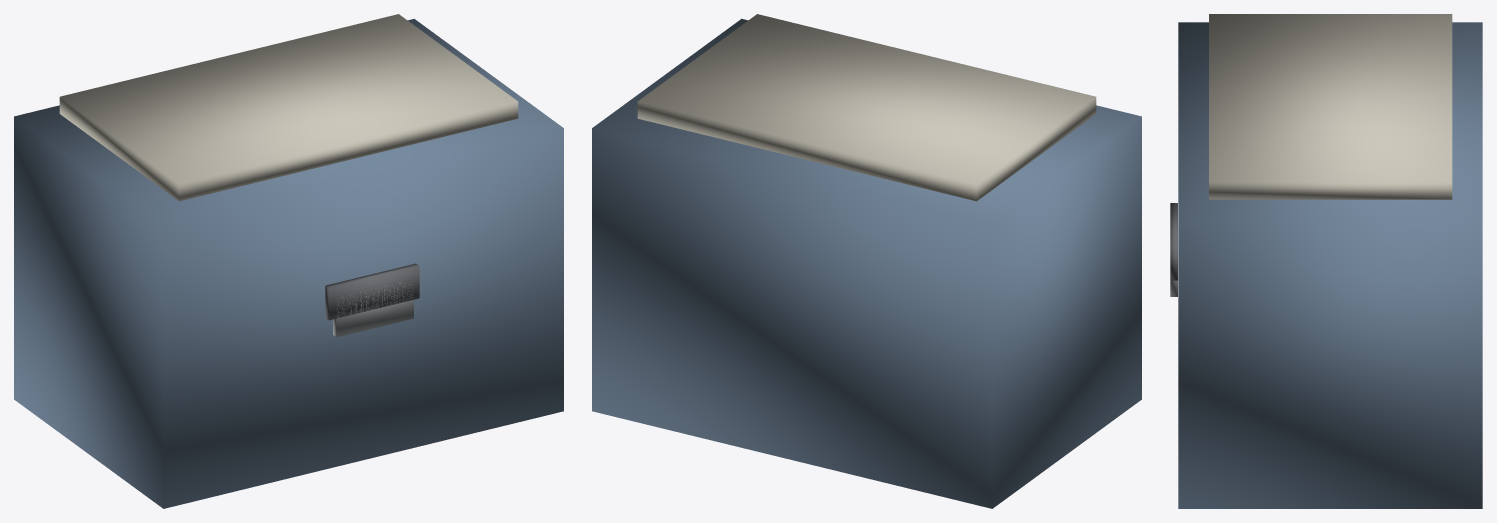
File: lost_and_found_bin__weathered.glb
3 views of the same model, side by side, from view 1: azimuth 30°, elevation 25°; view 2: azimuth 150°, elevation 25°; view 3: azimuth 270°, elevation 25° (orthographic).
Visible parts, largest first — view 1: world; view 2: world; view 3: world.
Part boxes in pixels (left/top/right/bottom): world: left=14, top=14, right=563, bottom=508; world: left=592, top=14, right=1141, bottom=508; world: left=1170, top=14, right=1482, bottom=508.
Size of the model in its own units: 0.85 by 0.6212 by 0.5649.
